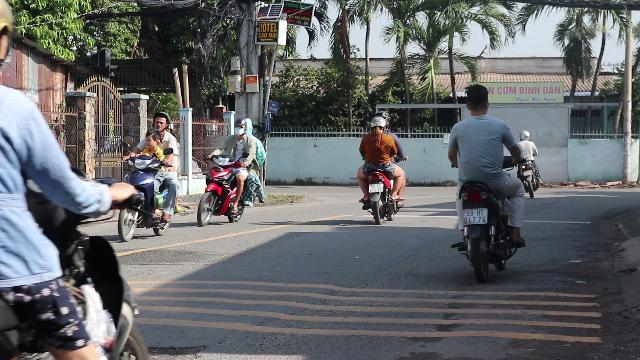helmet: (152, 112, 170, 132), (368, 115, 386, 132), (232, 118, 248, 136)
licenseplate: (462, 208, 488, 224), (368, 184, 384, 192)
motorcyclist: (444, 82, 528, 278), (109, 110, 180, 240), (196, 116, 256, 226), (354, 114, 406, 222)
nohelmet: (463, 84, 491, 116), (144, 129, 160, 147)
